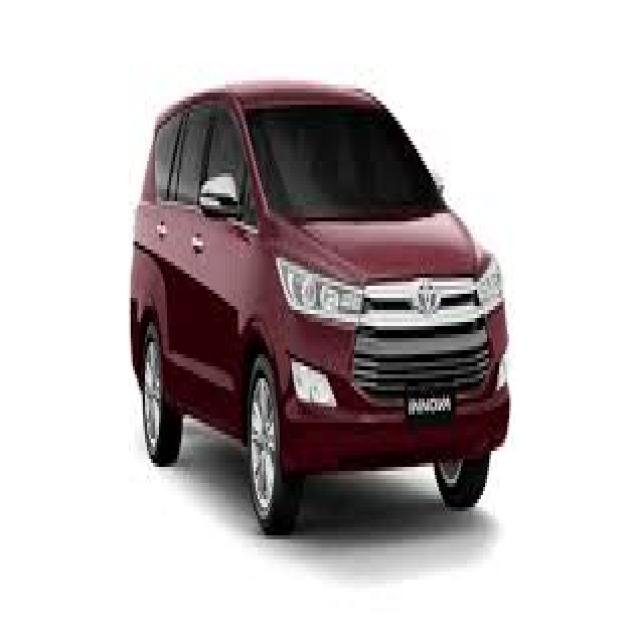light_vehicle: (130, 81, 511, 537)
